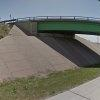Bridge: (7, 5, 100, 41)
